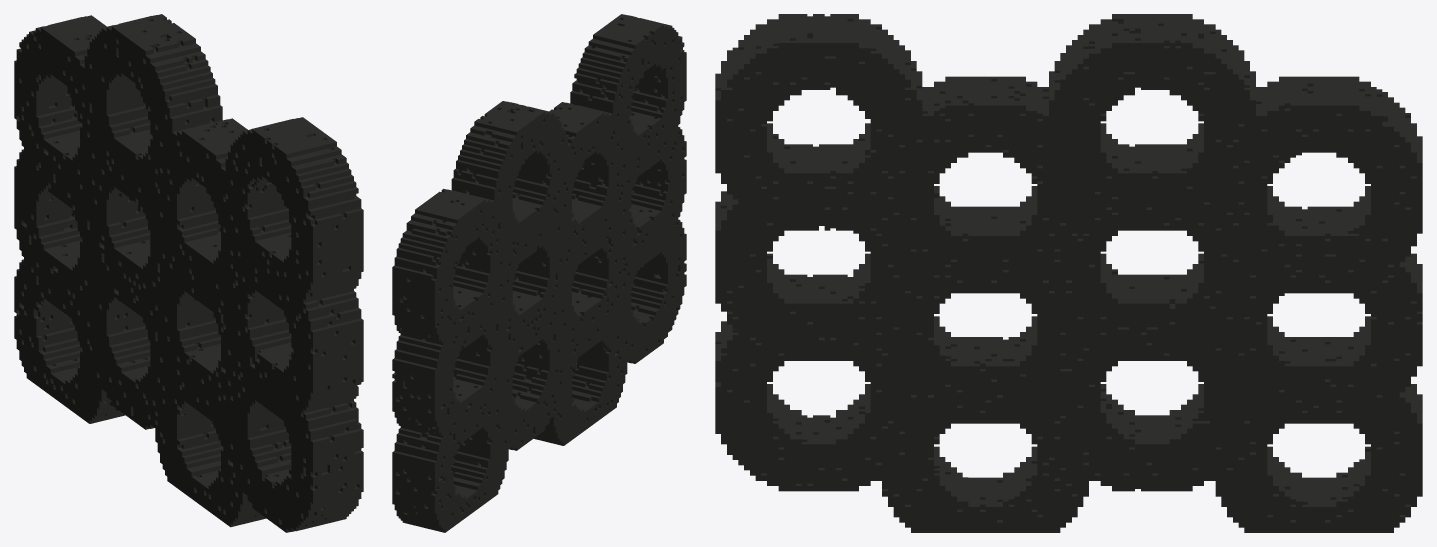
File: barrier_soft_0.obj
3 renders of one model, left to right at view 1: azimuth 30°, elevation 25°; view 2: azimuth 150°, elevation 25°; view 3: azimuth 270°, elevation 25°, orthographic. The views are drawn at different scales.
Size of the model in its own units: 0.3 by 2.35 by 3.08.
Materials: 1 (1 with a texture image).
